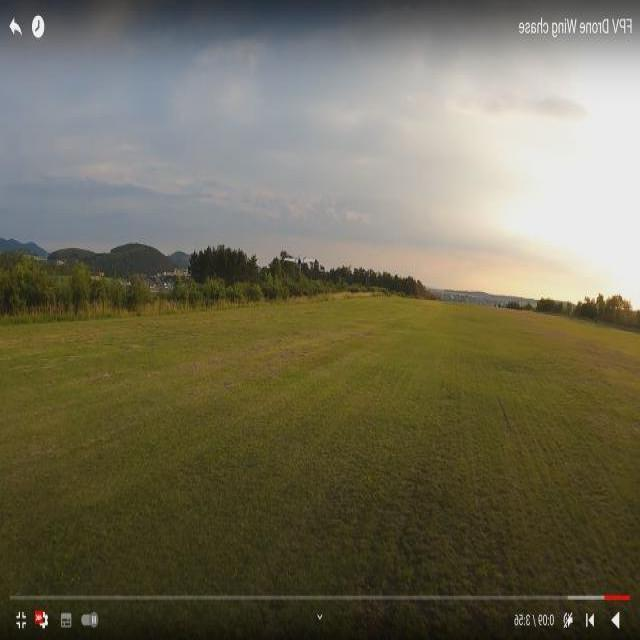iha: (283, 259, 316, 262)
